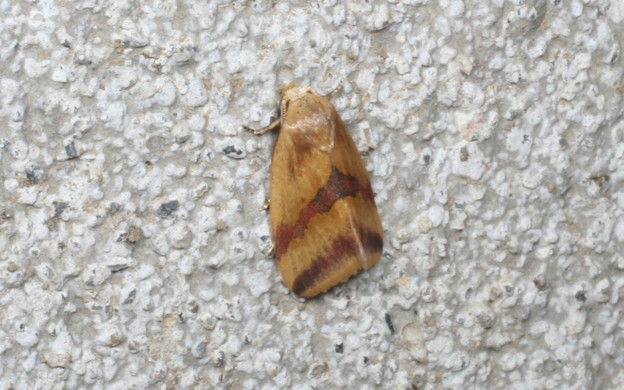Noctuidae: (246, 81, 386, 302)
